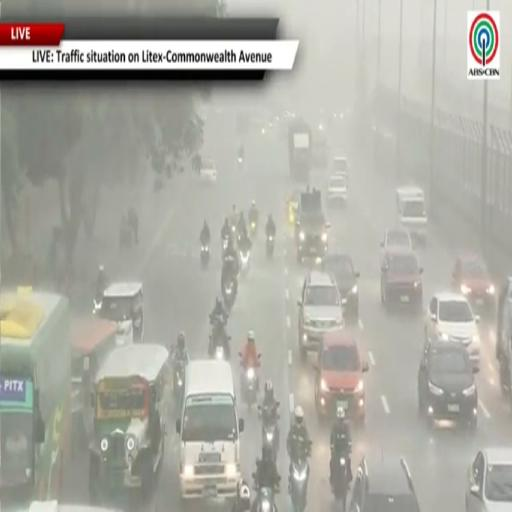bus: (0, 288, 71, 511)
car: (418, 342, 477, 429), (315, 331, 368, 424), (298, 271, 344, 360), (425, 293, 480, 366), (348, 455, 419, 511), (465, 447, 511, 511), (453, 252, 495, 314), (381, 248, 422, 310), (324, 253, 359, 319), (396, 186, 428, 244), (381, 229, 413, 264), (18, 501, 121, 511), (327, 173, 347, 204), (287, 189, 300, 229), (200, 159, 217, 184), (333, 156, 348, 174)
jeepney: (89, 344, 170, 505), (72, 316, 121, 451), (99, 282, 143, 344), (18, 501, 122, 511)
motorcycle: (290, 443, 310, 511), (258, 406, 279, 460), (331, 455, 349, 511), (241, 363, 258, 407), (209, 332, 230, 360), (253, 487, 276, 511), (173, 361, 184, 403), (222, 280, 236, 312), (240, 250, 250, 276), (120, 227, 132, 248), (201, 245, 210, 268), (266, 235, 274, 258), (93, 298, 102, 315), (249, 220, 257, 238), (222, 237, 229, 255), (238, 156, 243, 169)
truck: (295, 188, 329, 263), (496, 277, 511, 405), (288, 119, 312, 182), (313, 124, 328, 168)
